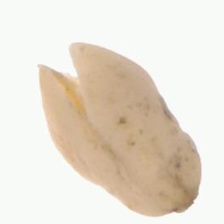L1: (36, 41, 87, 119), (165, 182, 200, 214)
L2: (38, 40, 202, 218)
